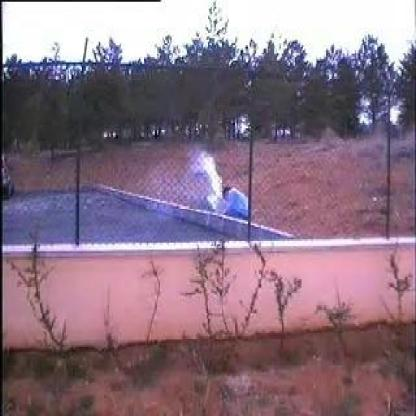-: (176, 148, 226, 207)
